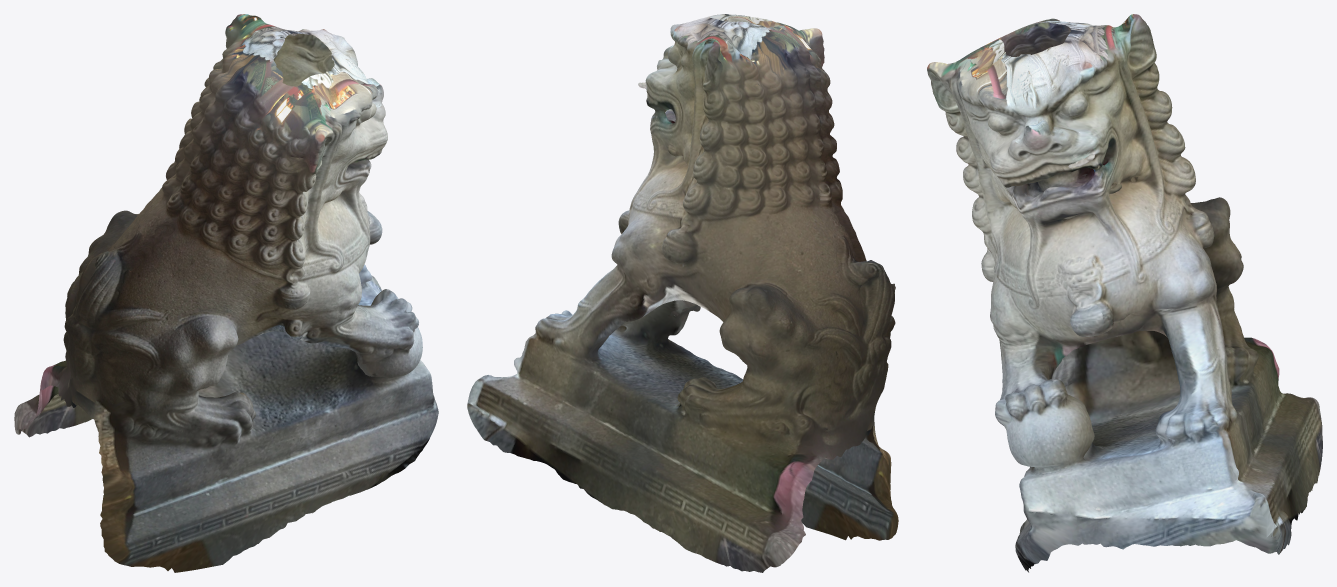
Rendered from dragon_statue_in_hawaii.glb.
3 views of the same model, side by side, from view 1: azimuth 30°, elevation 25°; view 2: azimuth 150°, elevation 25°; view 3: azimuth 270°, elevation 25° (orthographic). The views are drawn at different scales.
Visible parts, largest first — view 1: Object_3, Object_2; view 2: Object_2, Object_3; view 3: Object_2, Object_3.
Boxes of the visible parts, x1,y1,x2,y2 form: Object_3: (44, 14, 438, 572); Object_2: (14, 15, 429, 547); Object_2: (467, 14, 897, 572); Object_3: (519, 16, 898, 540); Object_2: (931, 19, 1322, 572); Object_3: (927, 14, 1291, 564).
Bounding box in the file's own units: 0.0671 × 0.0882 × 0.0559.
Materials: 1 (1 with a texture image).
